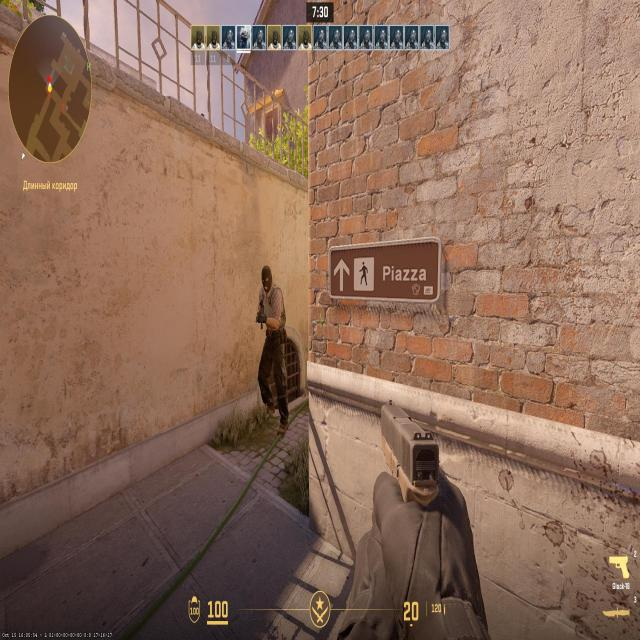T: (259, 268, 287, 430)
T_heat: (262, 264, 271, 288)
